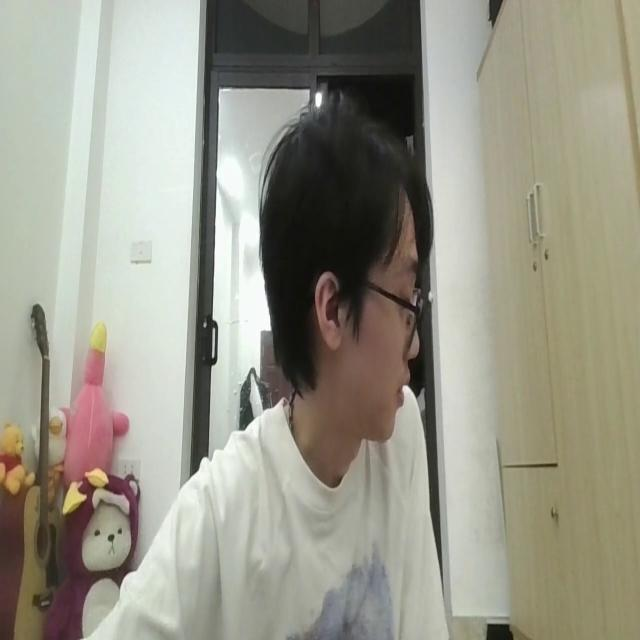student: (108, 99, 438, 640)
